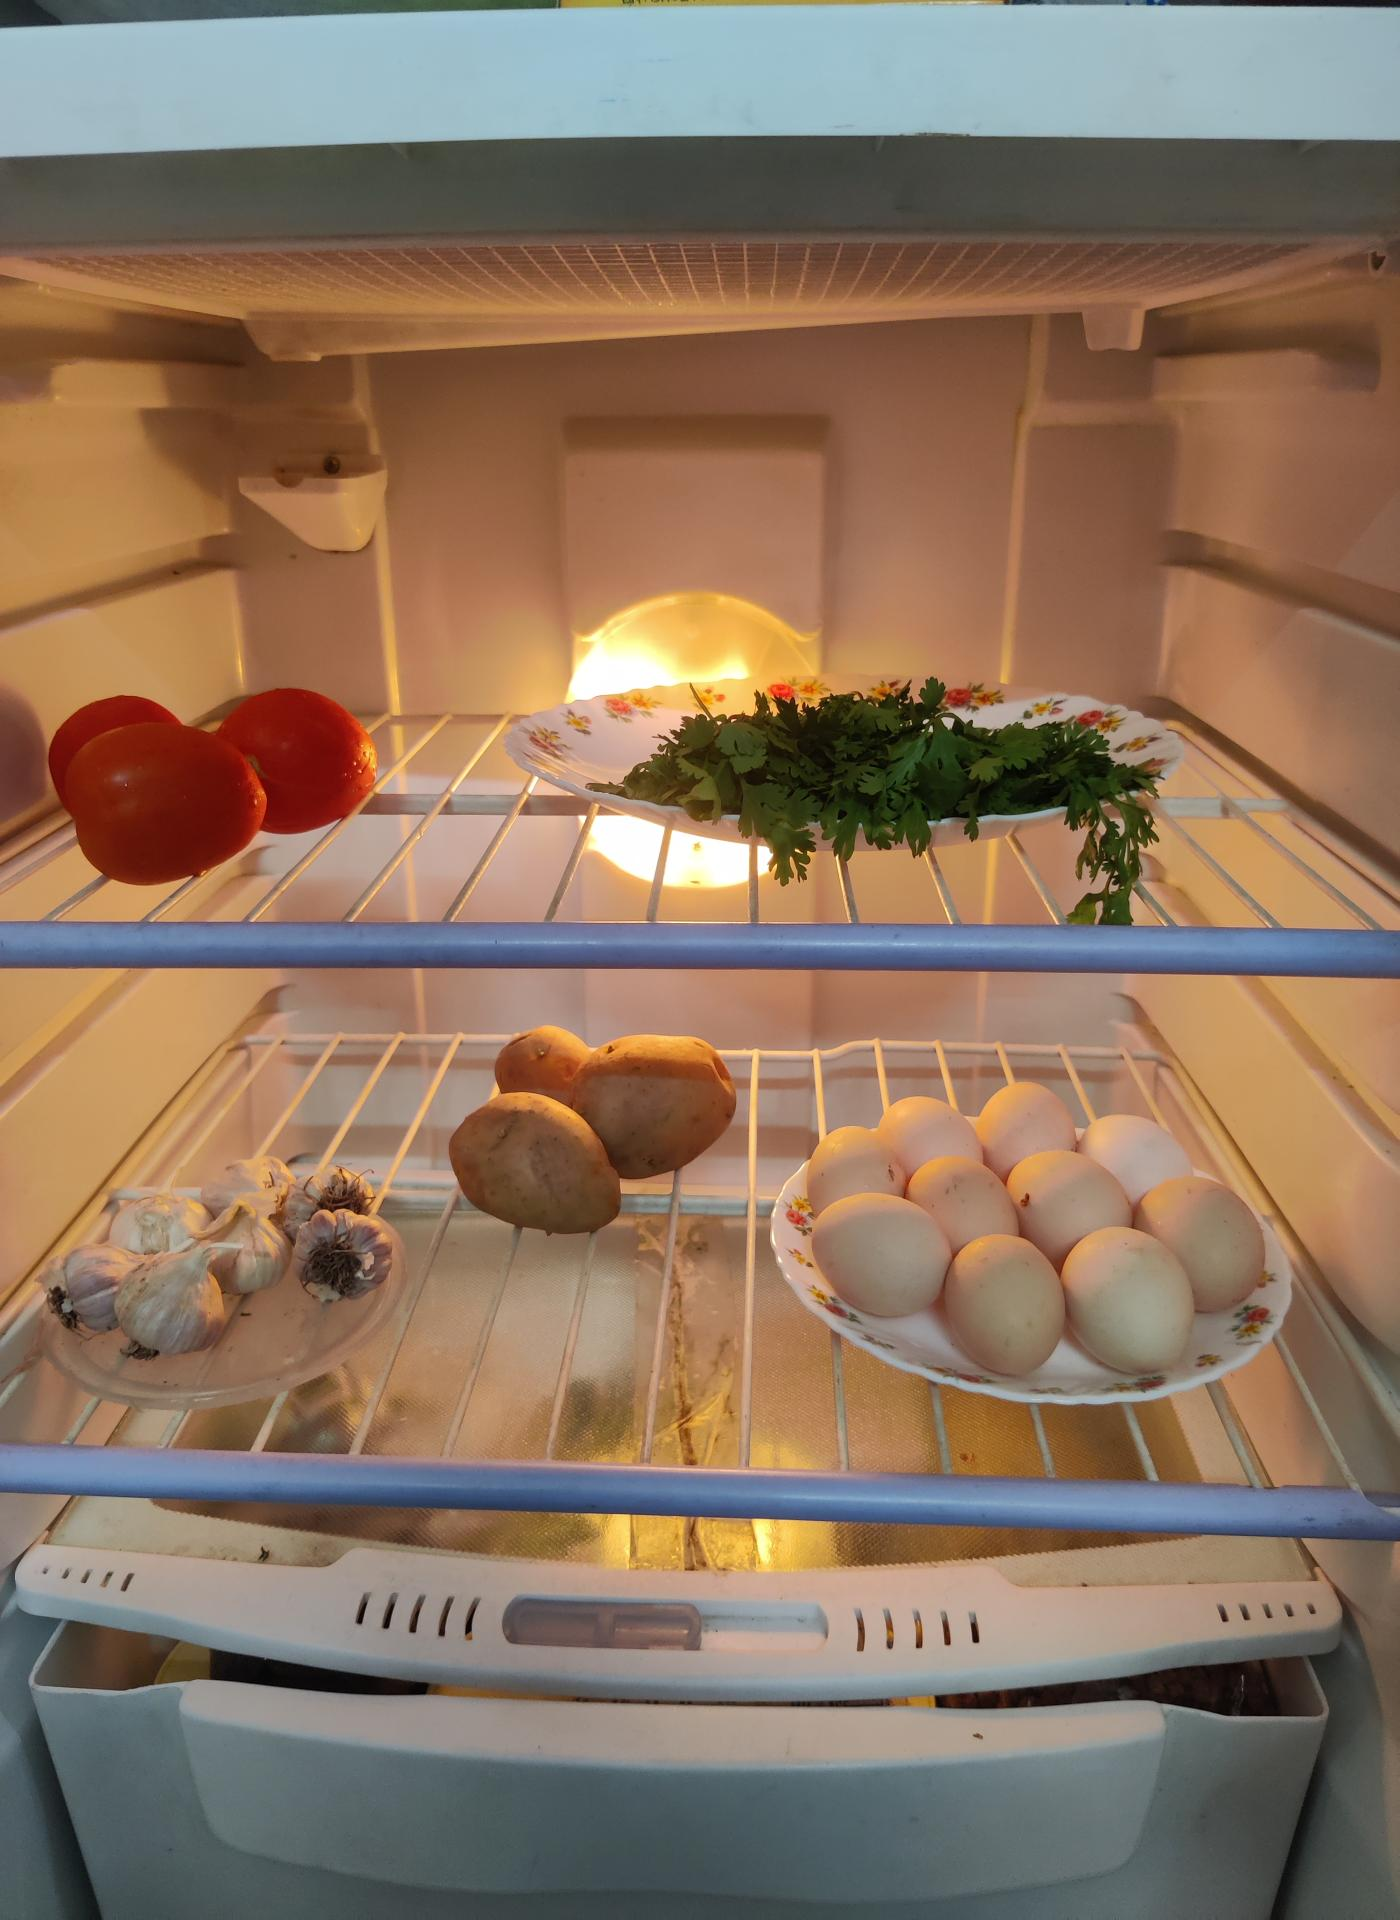coriander: (620, 695, 1163, 847)
egg: (793, 1087, 1272, 1377)
garlic: (46, 1169, 380, 1348)
potato: (455, 1024, 732, 1231)
tomato: (43, 687, 373, 881)
